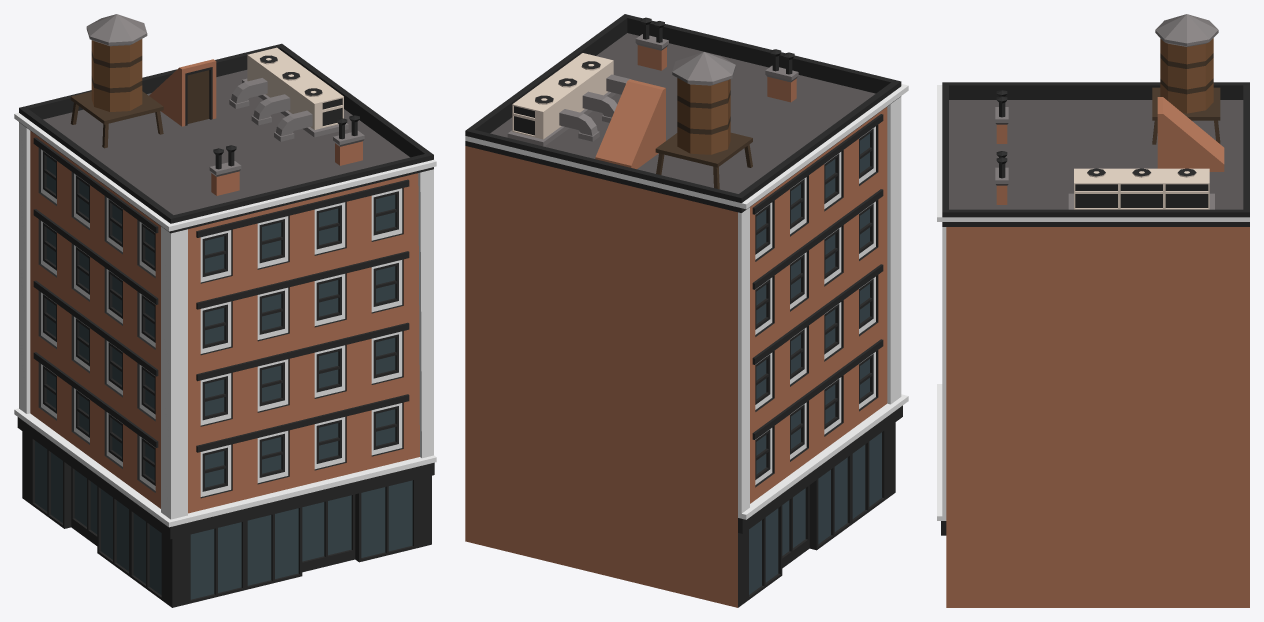
File: buildings_building-block-4floor-corner.fbx
3 renders of one model, left to right at view 1: azimuth 30°, elevation 25°; view 2: azimuth 150°, elevation 25°; view 3: azimuth 270°, elevation 25°, orthographic. The views are drawn at different scales.
Parts seen in each view (by area): view 1: buildings_building_block_4floor_corner; view 2: buildings_building_block_4floor_corner; view 3: buildings_building_block_4floor_corner.
Part boxes in pixels (left/top/right/bottom): buildings_building_block_4floor_corner: left=14, top=14, right=436, bottom=607; buildings_building_block_4floor_corner: left=465, top=14, right=908, bottom=607; buildings_building_block_4floor_corner: left=937, top=14, right=1249, bottom=607.
Size of the model in its own units: 114 by 200 by 114.
